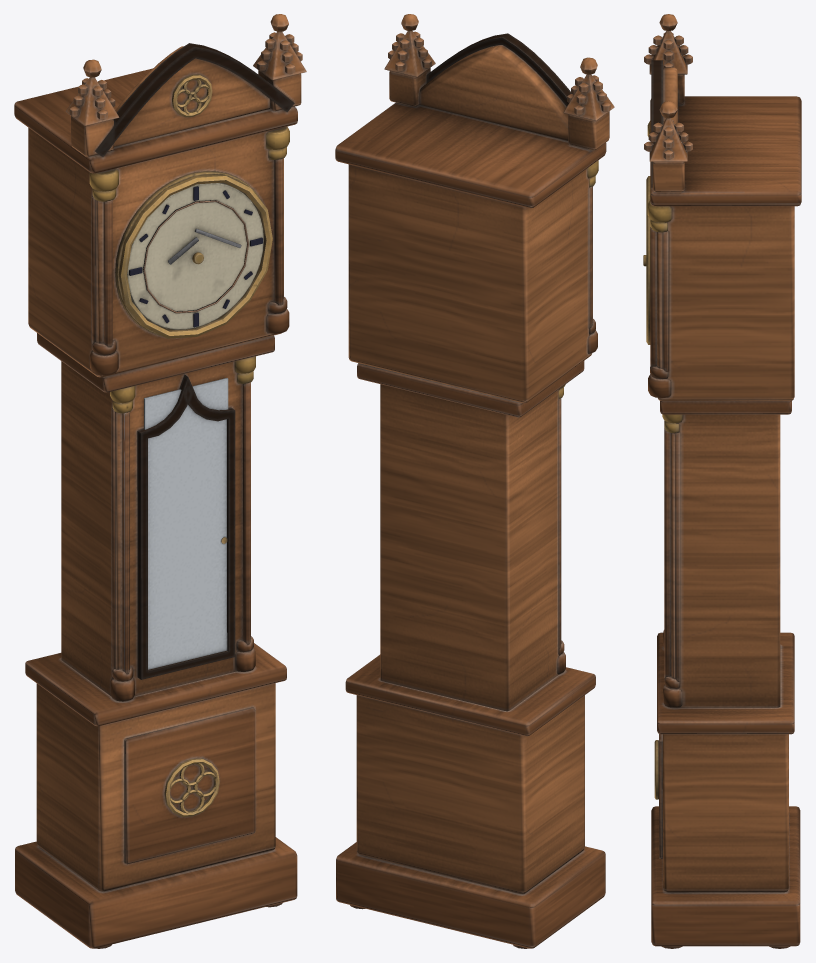
The model's file is GrandfatherClock.fbx.
3 views of the same model, side by side, from view 1: azimuth 30°, elevation 25°; view 2: azimuth 150°, elevation 25°; view 3: azimuth 270°, elevation 25° (orthographic). The views are drawn at different scales.
Visible parts, largest first — view 1: GrandfatherClock_Case, GrandfatherClock_Glass; view 2: GrandfatherClock_Case; view 3: GrandfatherClock_Case.
Part boxes in pixels (x1=…): GrandfatherClock_Case: x1=14, y1=14, x2=306, y2=948; GrandfatherClock_Glass: x1=144, y1=378, x2=228, y2=669; GrandfatherClock_Case: x1=335, y1=14, x2=614, y2=948; GrandfatherClock_Case: x1=643, y1=14, x2=801, y2=948.
Bounding box in the file's own units: 222 × 814 × 138.
